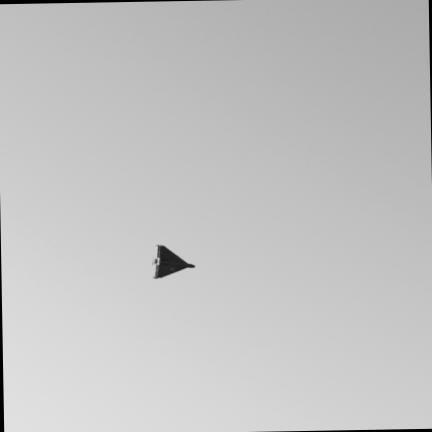Shahed: (154, 245, 194, 277)
